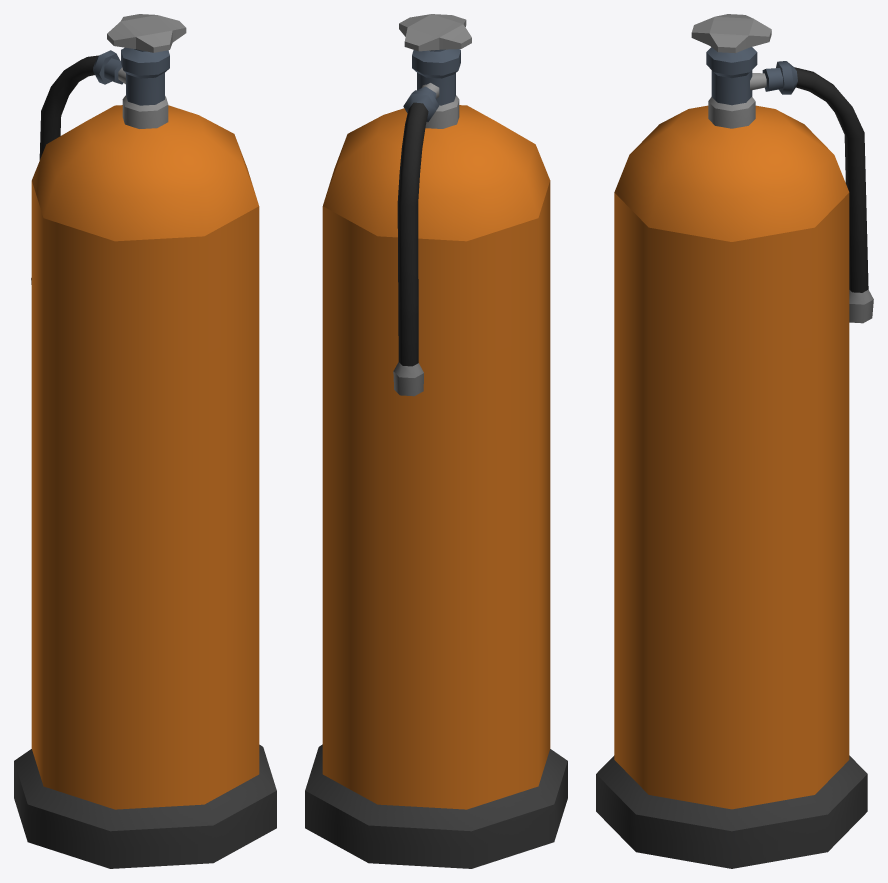
File: GasCylinder_1_6.fbx
3 views of the same model, side by side, from view 1: azimuth 30°, elevation 25°; view 2: azimuth 150°, elevation 25°; view 3: azimuth 270°, elevation 25° (orthographic).
Visible parts, largest first — view 1: GasCylinder_1_6; view 2: GasCylinder_1_6; view 3: GasCylinder_1_6.
Part boxes in pixels (x1,y1,x2,y2): GasCylinder_1_6: [14, 14, 276, 868]; GasCylinder_1_6: [305, 14, 567, 868]; GasCylinder_1_6: [596, 14, 873, 868].
Size of the model in its own units: 27.47 by 87.73 by 28.1.
